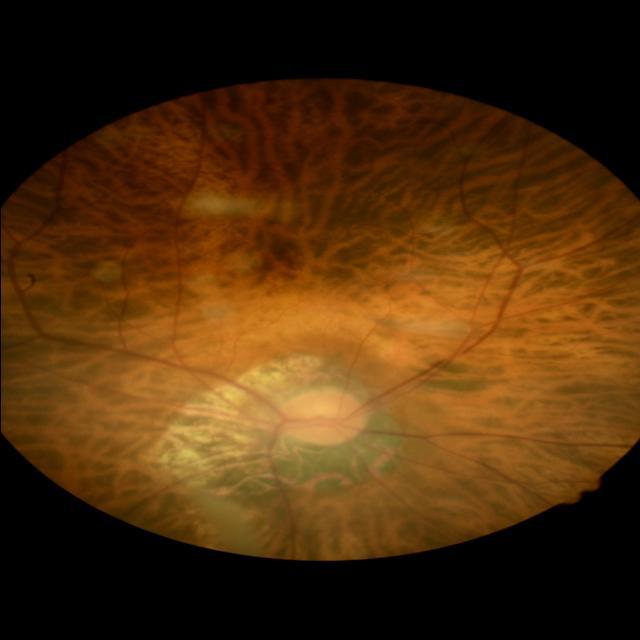cup: (288, 400, 342, 430)
disk: (275, 391, 365, 446)
